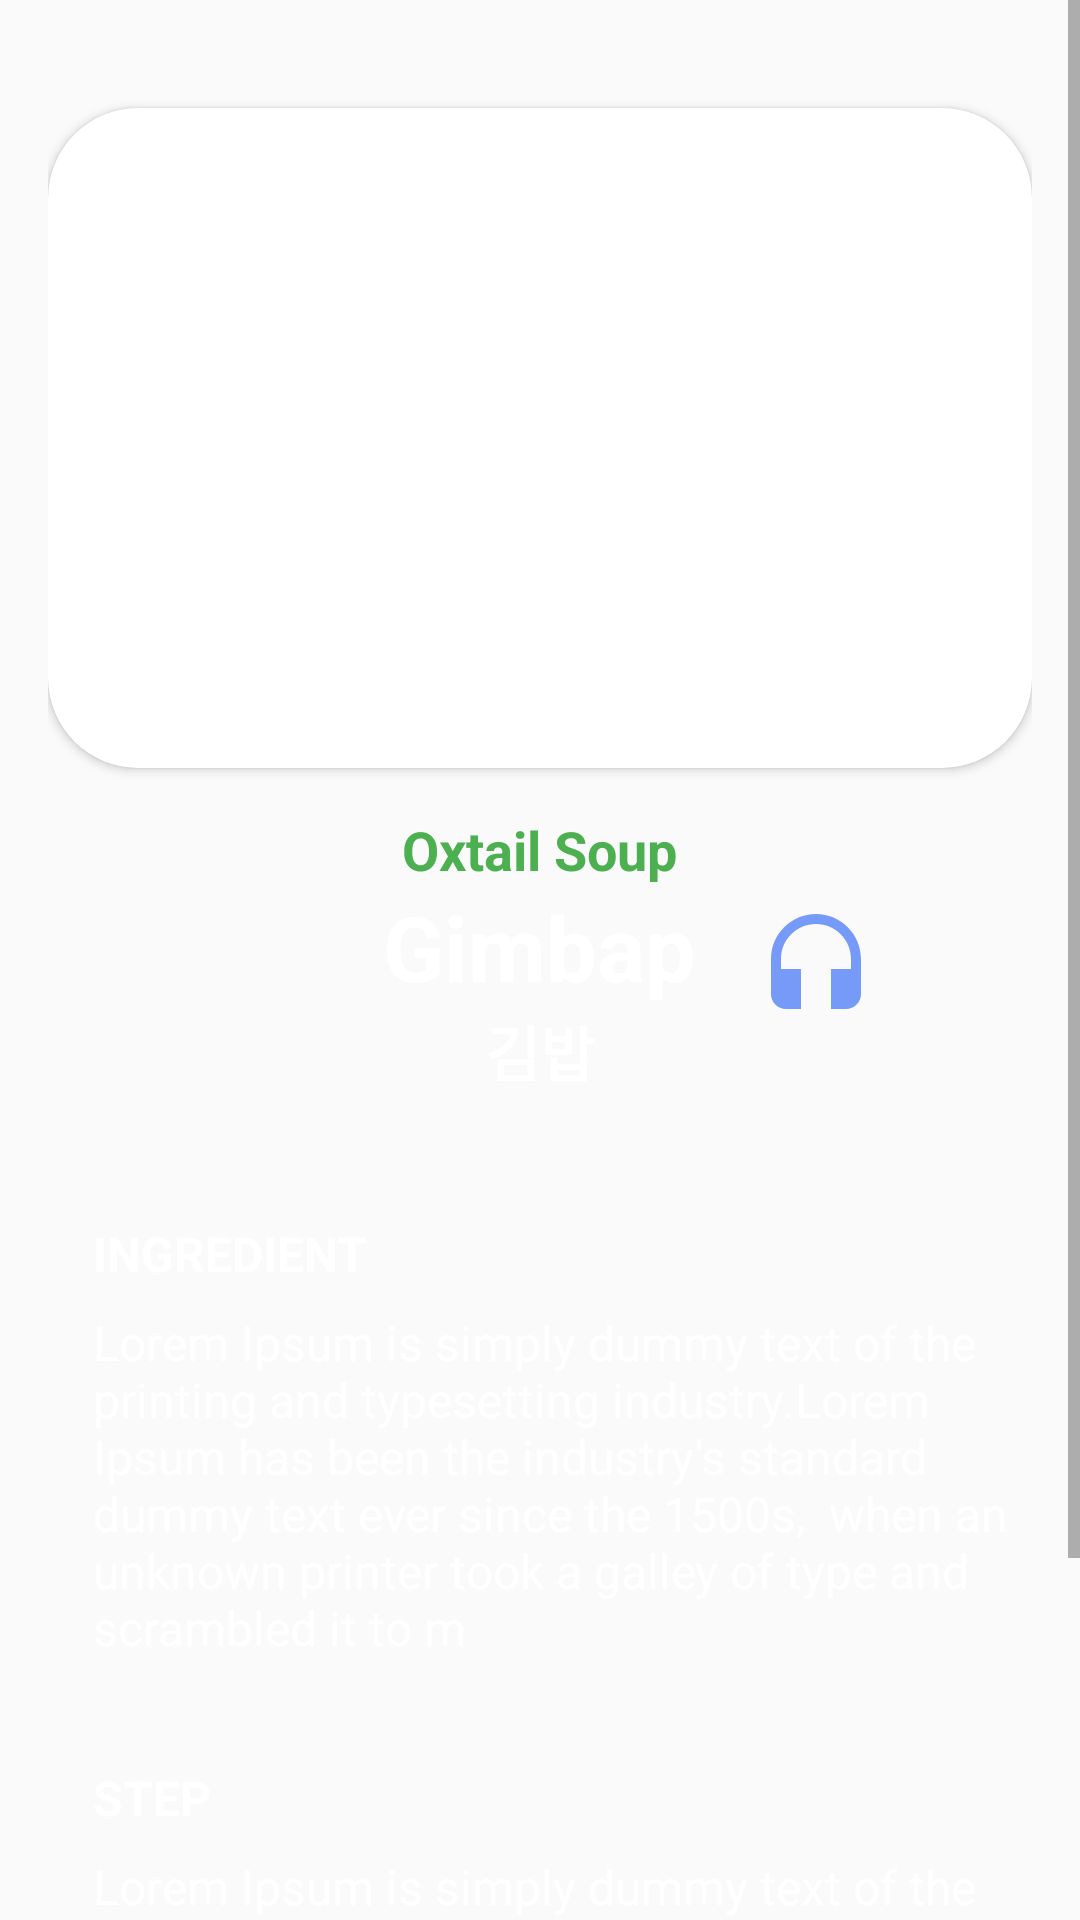

Point at icon controls on the screen. Image size 1080x1920, points as (x=x, y=y).
headset: (x=816, y=961)
